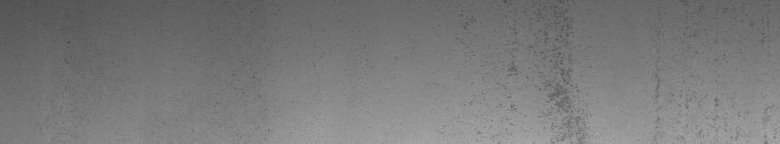ib: (460, 9, 584, 136)
